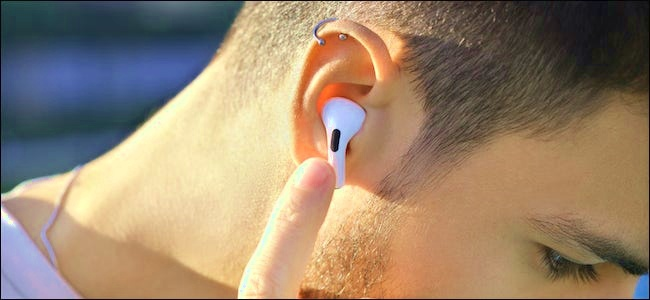earphone: (288, 18, 395, 189)
